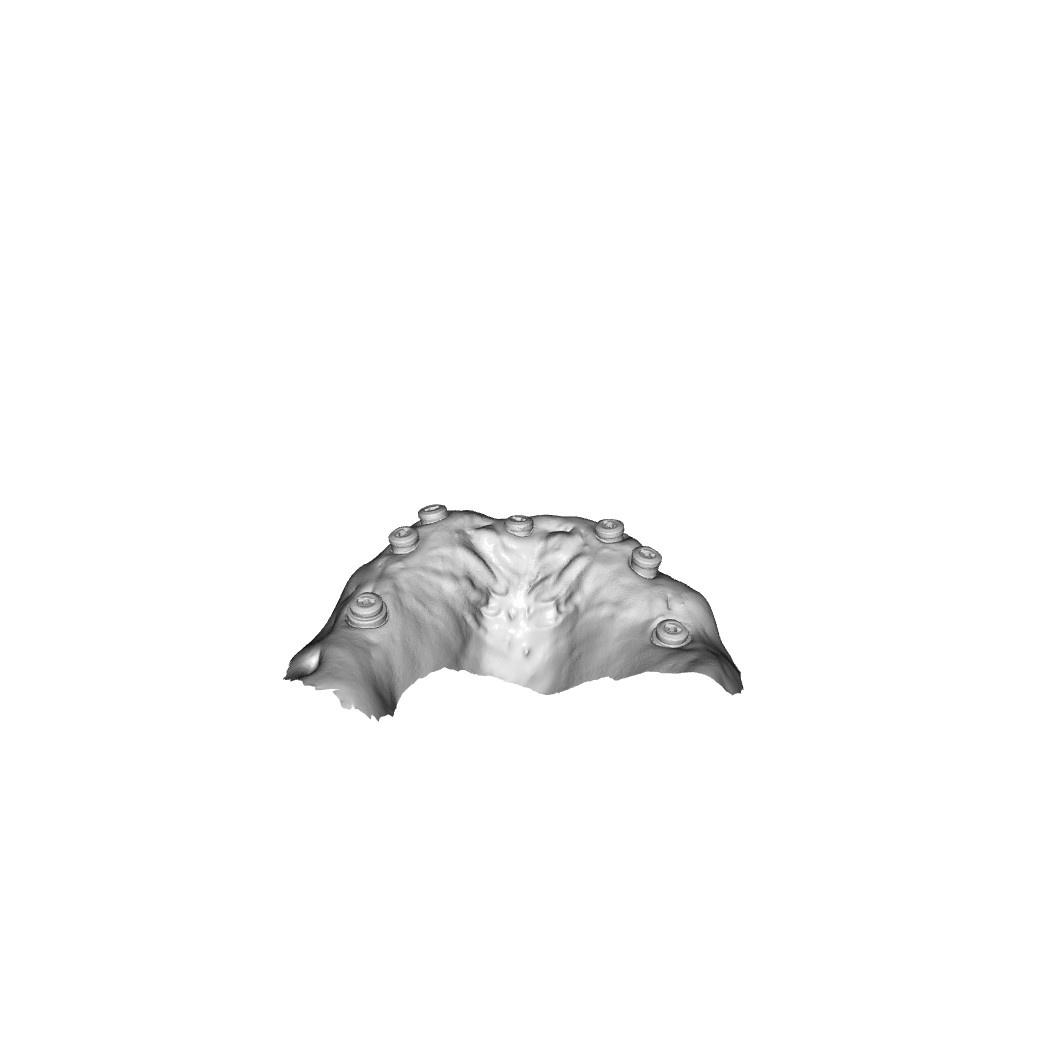implant: (385, 525, 421, 552)
implant_minus: (347, 590, 387, 628), (628, 541, 664, 578), (650, 616, 688, 651), (592, 515, 627, 543), (417, 501, 450, 526), (506, 510, 534, 537)
